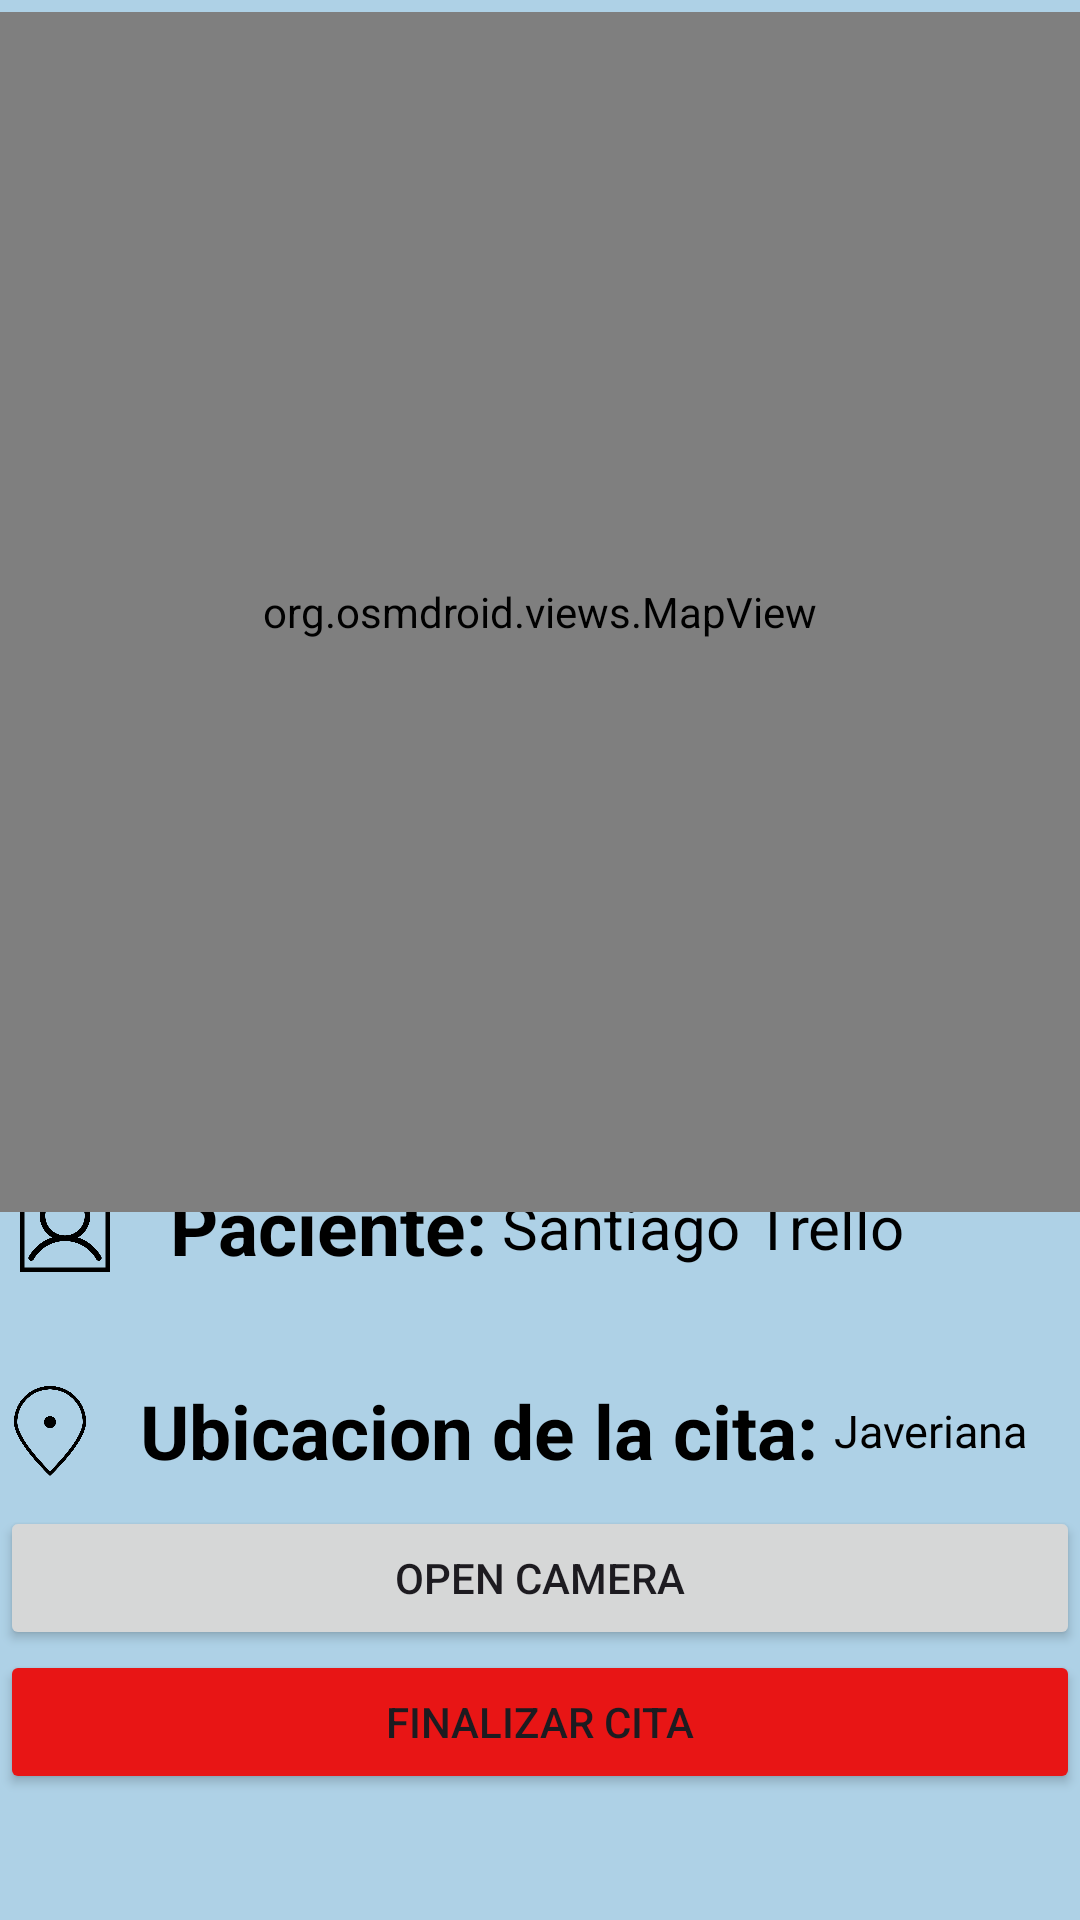

Icon bounding boxes for this 1080px×1920px phone screenshot, format (x1, y1, x2, y2):
iconpinalt: (14, 1386, 86, 1476)
